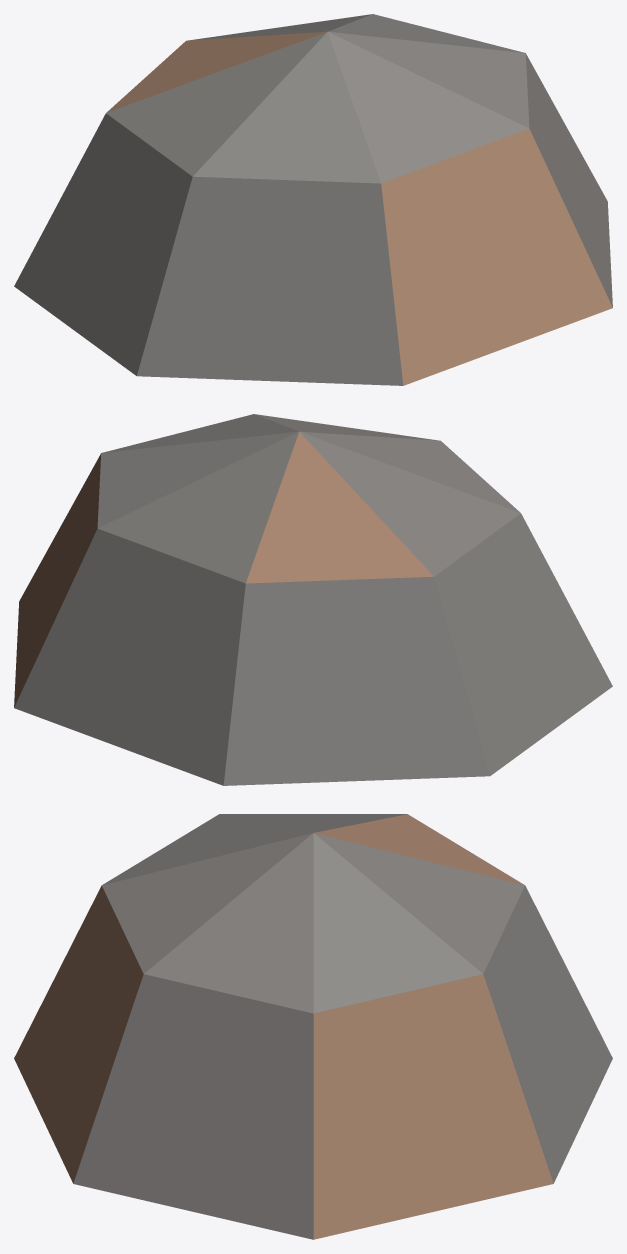
Rendered from ore_iron.glb.
The picture shows the model from 3 angles, top to bottom: view 1: azimuth 30°, elevation 25°; view 2: azimuth 150°, elevation 25°; view 3: azimuth 270°, elevation 25°; orthographic projection. The views are drawn at different scales.
Visible parts, largest first — view 1: ../props/ore_iron; view 2: ../props/ore_iron; view 3: ../props/ore_iron.
Part boxes in pixels (bbox=[...]): ../props/ore_iron: bbox=[14, 14, 612, 385]; ../props/ore_iron: bbox=[14, 414, 612, 785]; ../props/ore_iron: bbox=[14, 814, 612, 1239].
Bounding box in the file's own units: 0.6083 × 0.26 × 0.546.
